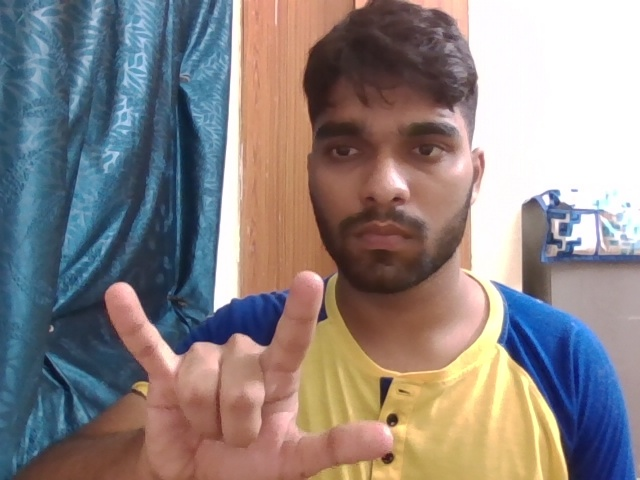I love you: (96, 258, 404, 480)
